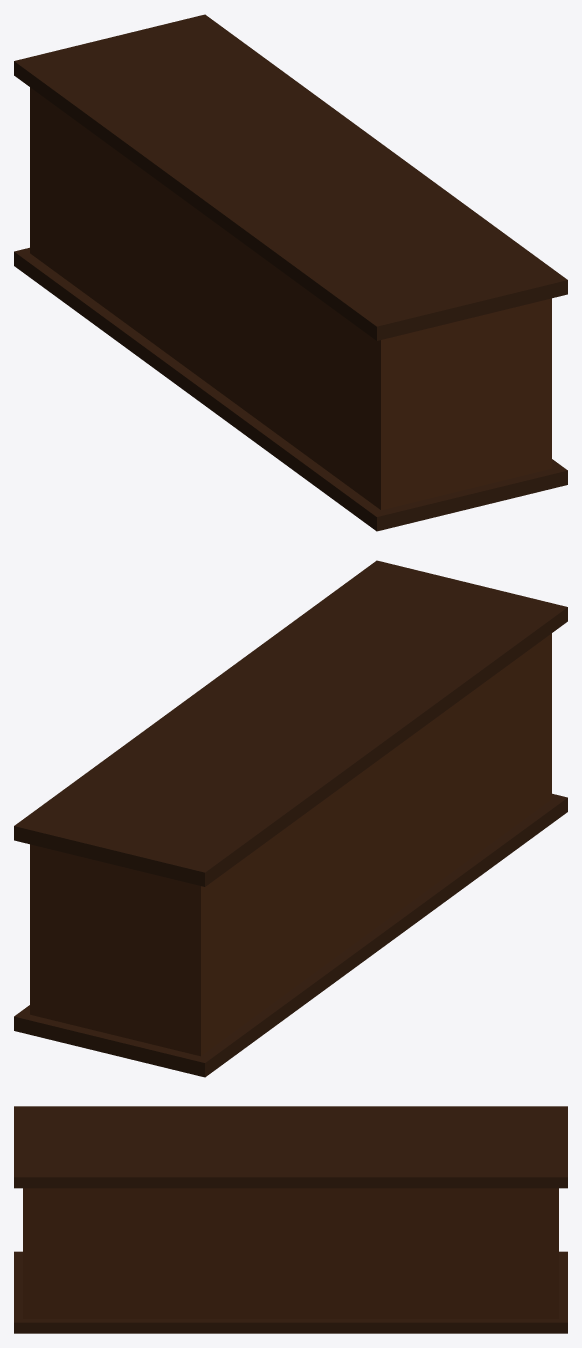
File: CoffinFBX.fbx
The picture shows the model from 3 angles, top to bottom: view 1: azimuth 30°, elevation 25°; view 2: azimuth 150°, elevation 25°; view 3: azimuth 270°, elevation 25°; orthographic projection. The views are drawn at different scales.
Visible parts, largest first — view 1: Cube, Cube.002, Cube.001; view 2: Cube, Cube.002, Cube.001; view 3: Cube, Cube.002, Cube.001.
Boxes of the visible parts, x1,y1,x2,y2 form: Cube: [30, 87, 551, 510]; Cube.002: [14, 14, 567, 340]; Cube.001: [14, 247, 567, 531]; Cube: [30, 633, 551, 1056]; Cube.002: [14, 560, 567, 886]; Cube.001: [14, 793, 567, 1077]; Cube: [23, 1188, 558, 1318]; Cube.002: [14, 1106, 567, 1188]; Cube.001: [14, 1251, 567, 1333].
Bounding box in the file's own units: 224 × 229 × 736.
